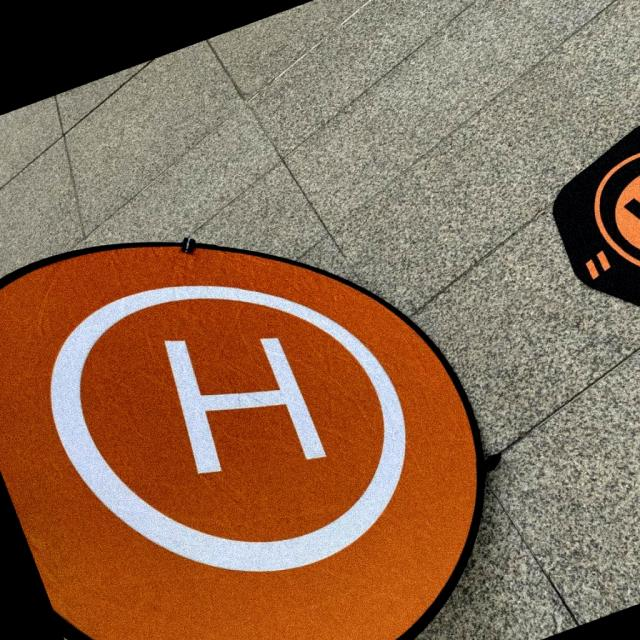helipad: (44, 278, 412, 580)
